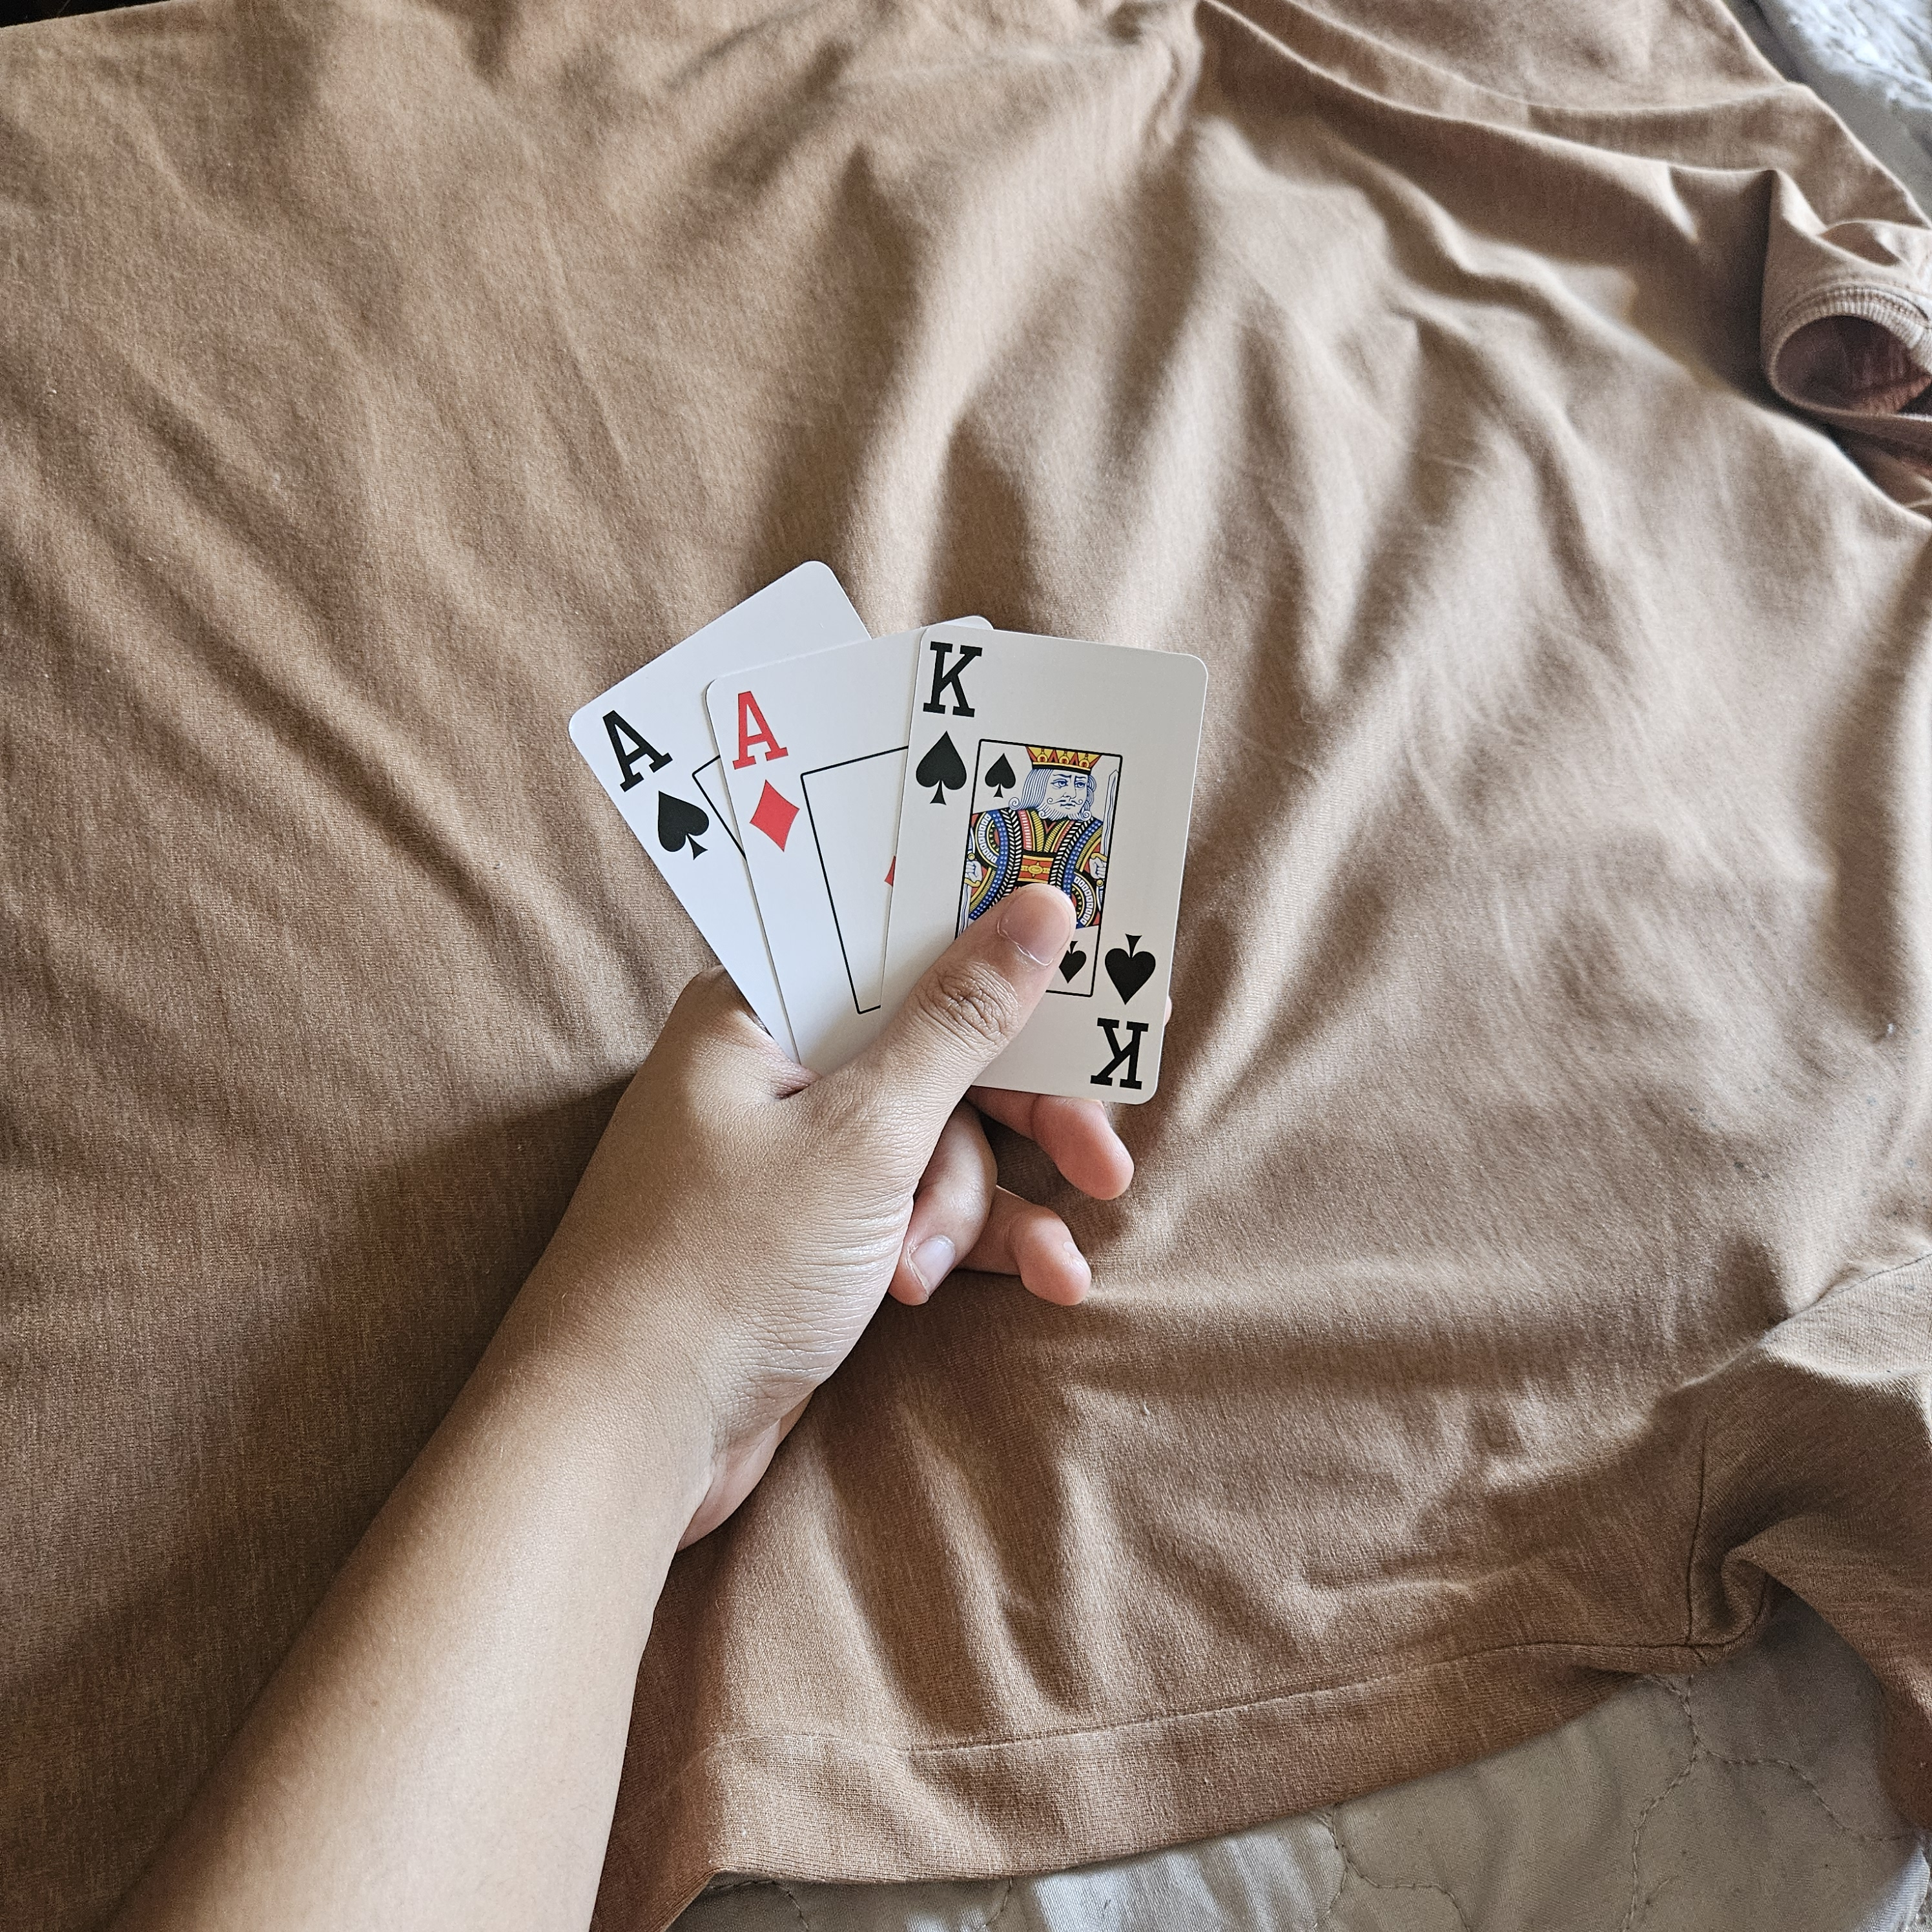AE: (584, 701, 720, 870)
AO: (720, 685, 823, 863)
KE: (1083, 918, 1173, 1109), (908, 628, 991, 817)
